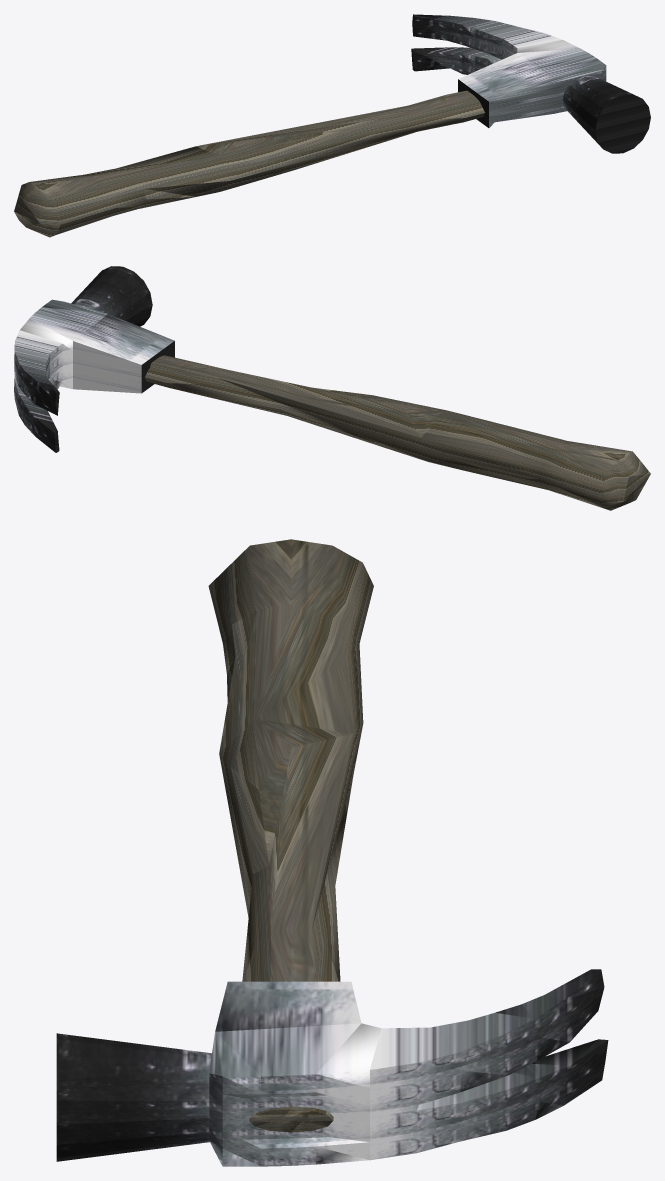
Rendered from hammer.glb.
3 renders of one model, top to bottom at view 1: azimuth 30°, elevation 25°; view 2: azimuth 150°, elevation 25°; view 3: azimuth 270°, elevation 25°, orthographic. The views are drawn at different scales.
Parts seen in each view (by area): view 1: hammer.ms3d.mo; view 2: hammer.ms3d.mo; view 3: hammer.ms3d.mo.
Part boxes in pixels (<box>): hammer.ms3d.mo: <box>14,14,650,237</box>; hammer.ms3d.mo: <box>14,266,650,510</box>; hammer.ms3d.mo: <box>56,539,608,1166</box>.
Bounding box in the file's own units: 97.69 × 9.61 × 41.21.
2 materials, 2 textured.
